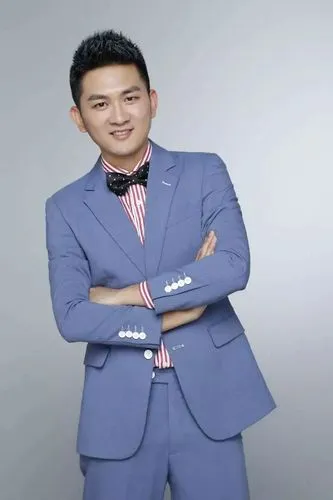withoutmask: (59, 33, 168, 165)
